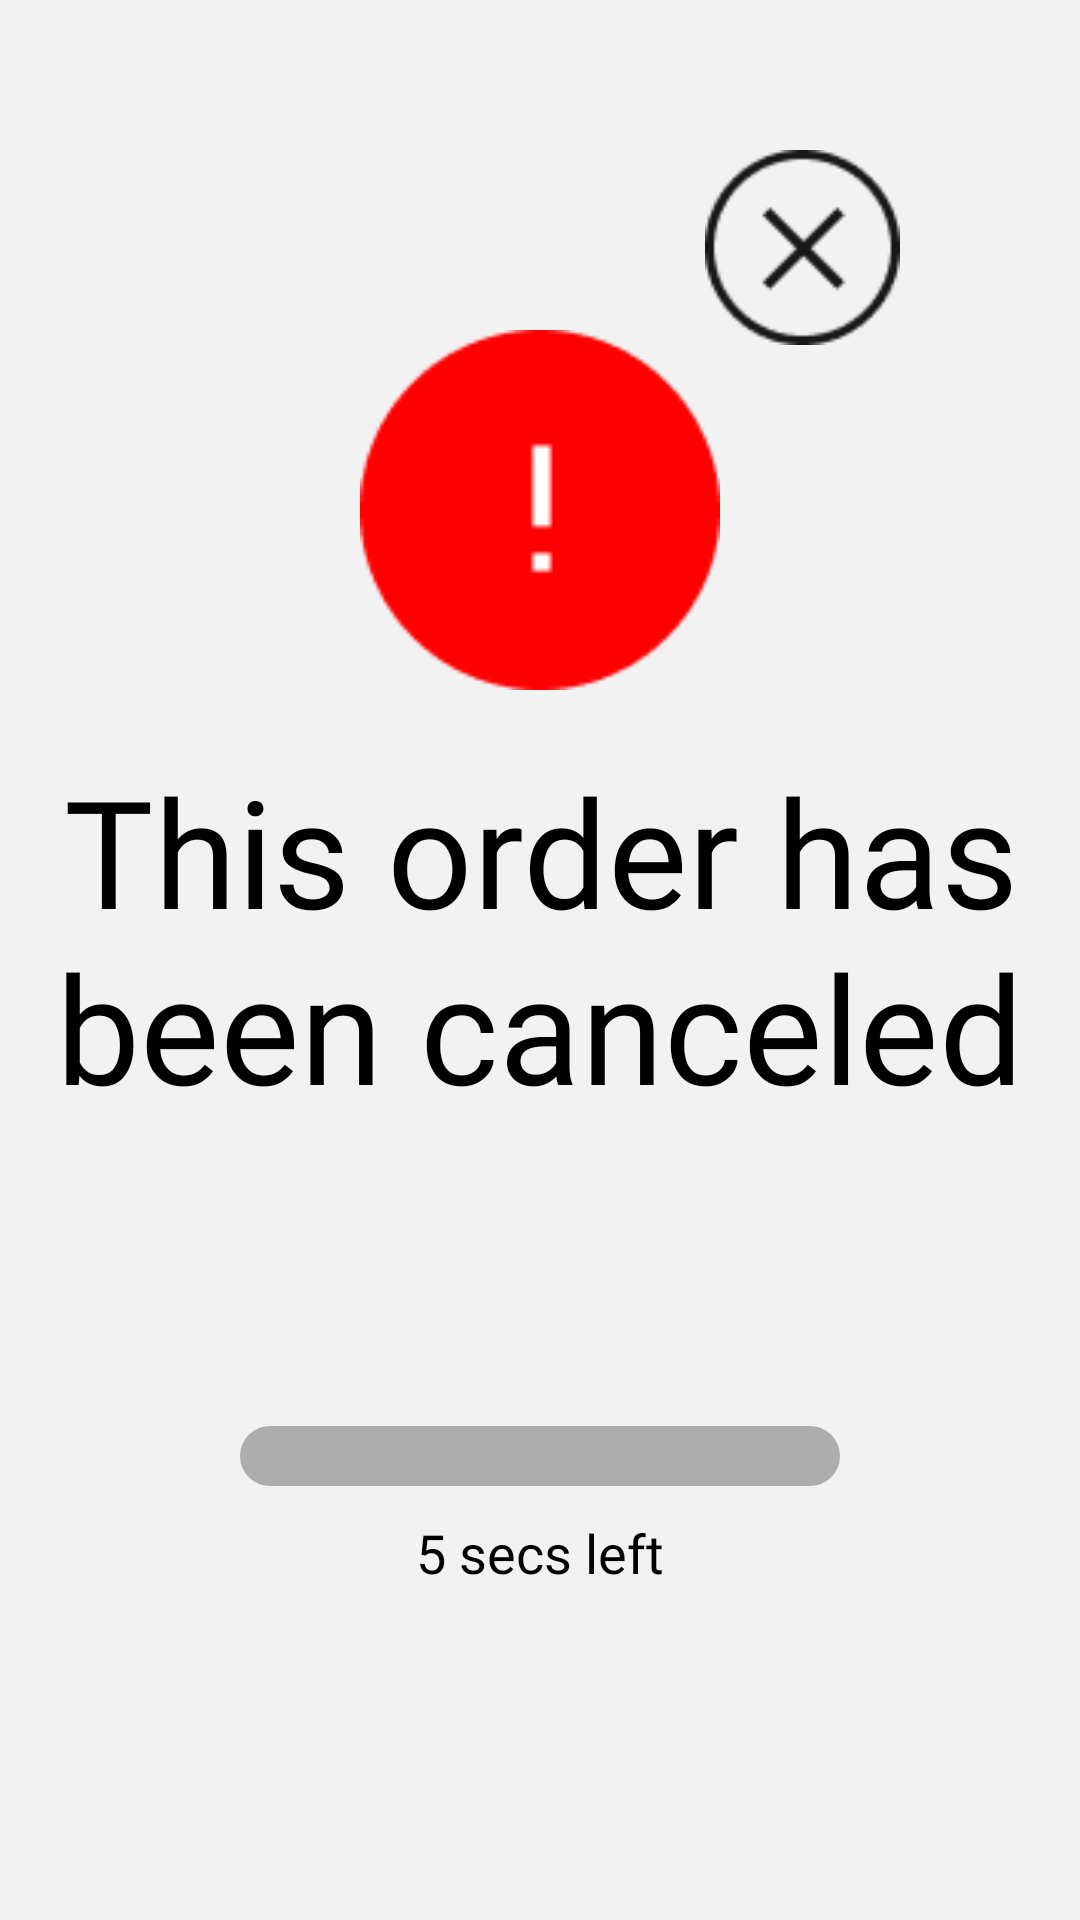

Locate icon controls on the screen. Image size 1080 x 1920, boxes as [x1, y1, x2, y2].
cancel: [705, 150, 900, 345]
pickup error: [360, 330, 720, 690]
